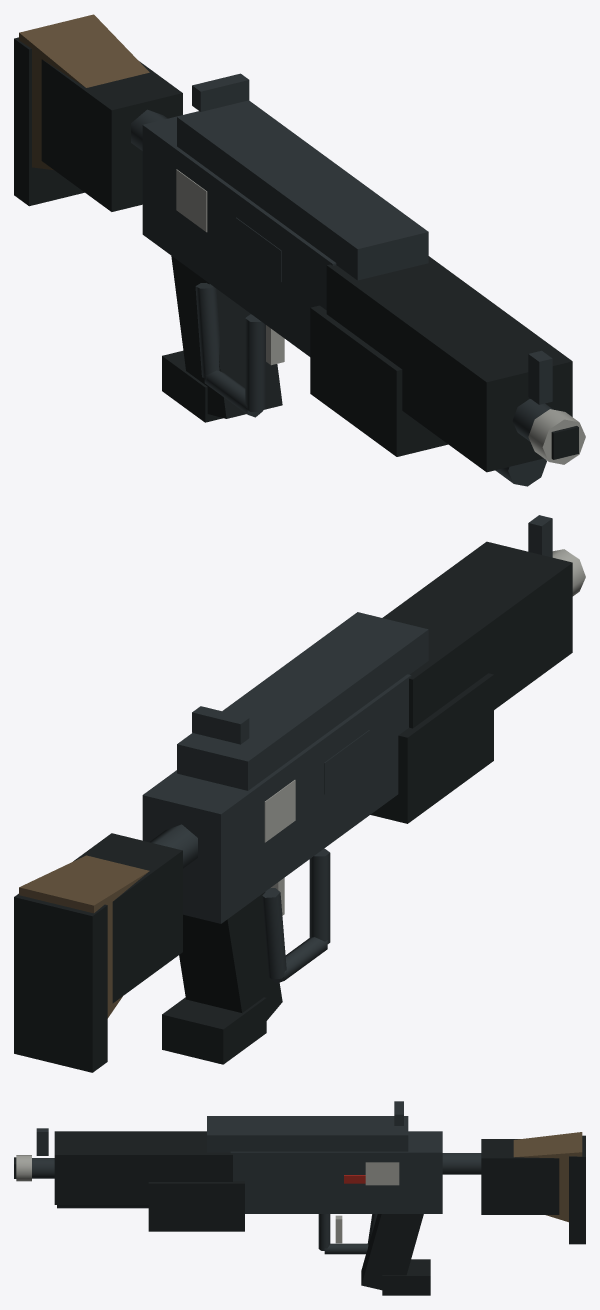
The picture shows the model from 3 angles, top to bottom: view 1: azimuth 30°, elevation 25°; view 2: azimuth 150°, elevation 25°; view 3: azimuth 270°, elevation 25°; orthographic projection. The views are drawn at different scales.
Parts seen in each view (by area): view 1: weapon-shotgun-0-painted, weapon-pump-painted; view 2: weapon-shotgun-0-painted, weapon-pump-painted; view 3: weapon-shotgun-0-painted, weapon-pump-painted.
Boxes of the visible parts, <box> form: weapon-shotgun-0-painted: <box>14,14,585,486</box>; weapon-pump-painted: <box>310,305,448,456</box>; weapon-shotgun-0-painted: <box>14,515,585,1072</box>; weapon-pump-painted: <box>370,673,493,823</box>; weapon-shotgun-0-painted: <box>14,1101,585,1295</box>; weapon-pump-painted: <box>148,1181,244,1231</box>.
Size of the model in its own units: 0.611 by 1.93 by 5.58.
